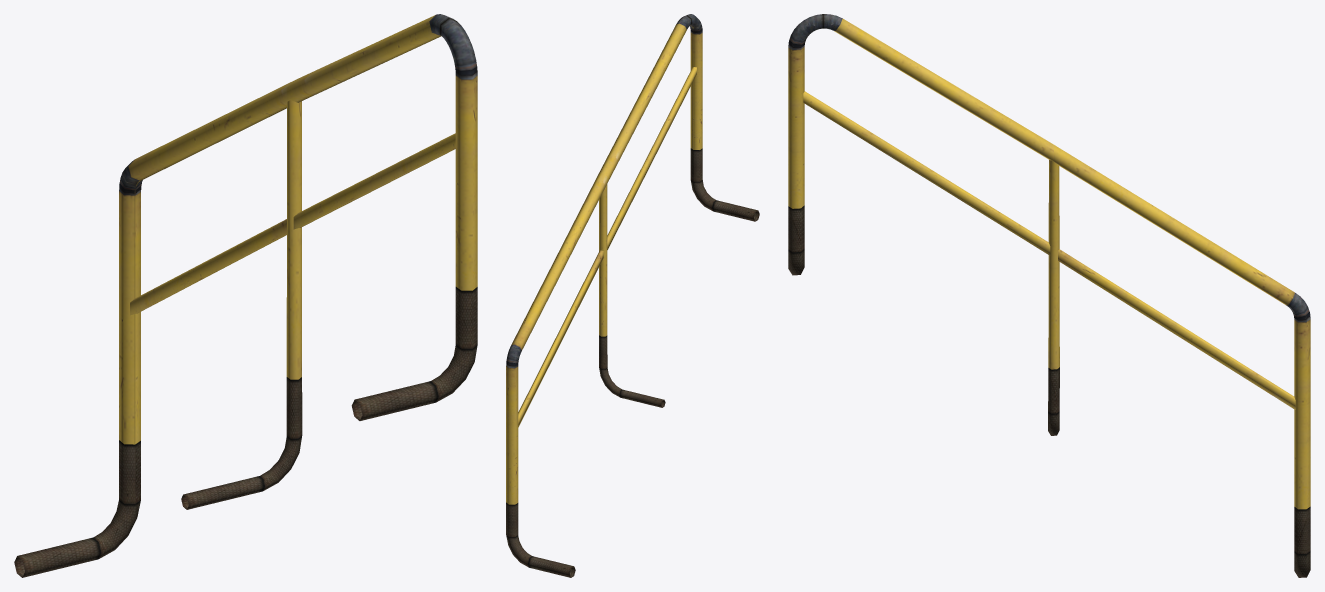
The model's file is Railing_11.fbx.
3 views of the same model, side by side, from view 1: azimuth 30°, elevation 25°; view 2: azimuth 150°, elevation 25°; view 3: azimuth 270°, elevation 25° (orthographic). The views are drawn at different scales.
Visible parts, largest first — view 1: Railing_11; view 2: Railing_11; view 3: Railing_11.
Boxes of the visible parts, x1=… form: Railing_11: x1=14, y1=14, x2=477, y2=577; Railing_11: x1=506, y1=14, x2=759, y2=577; Railing_11: x1=788, y1=14, x2=1310, y2=577.
Size of the model in its own units: 38.06 by 234 by 193.
1 material, 1 textured.
